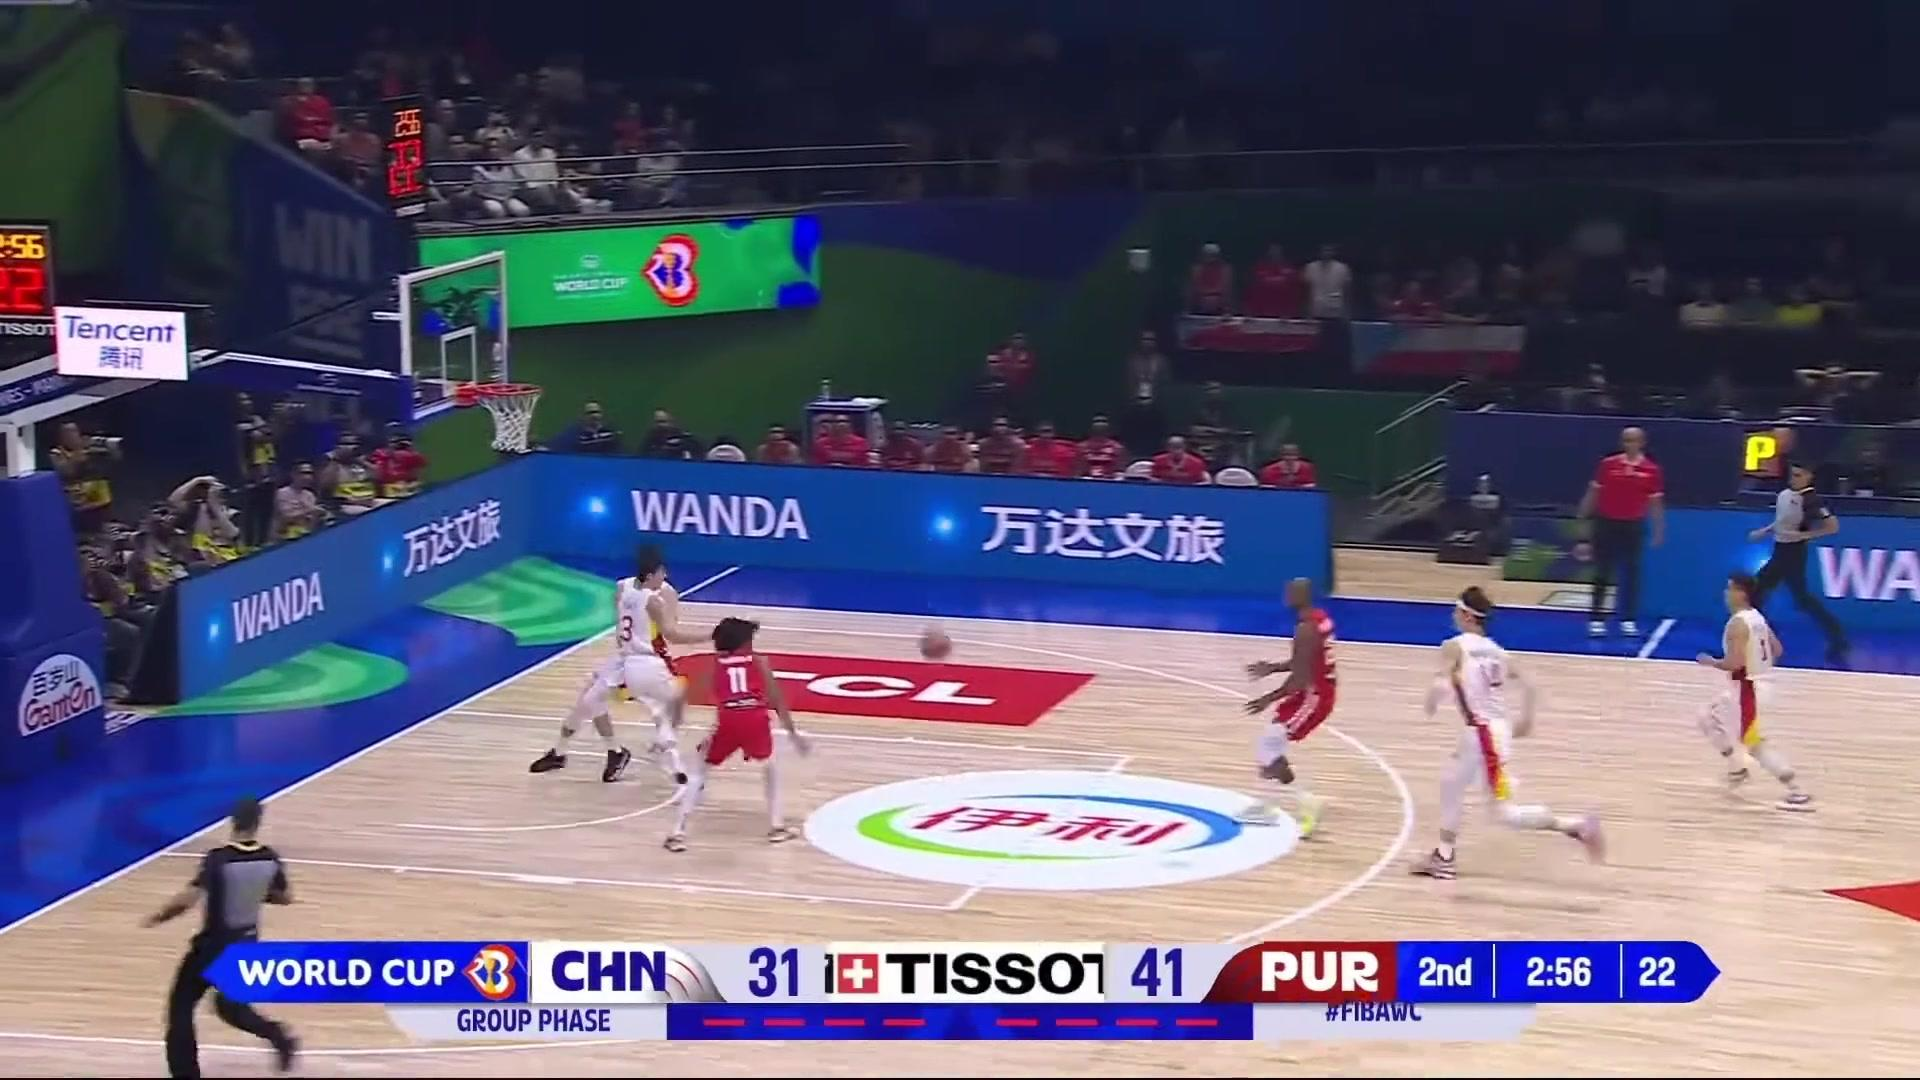no_foul: (597, 554, 791, 851)
